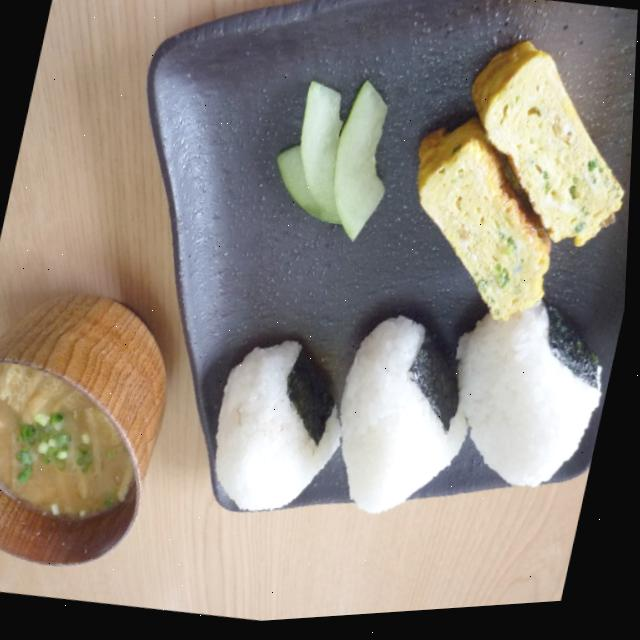汤锅炖物: (135, 314, 326, 601)
米饭主食: (319, 189, 632, 547)
